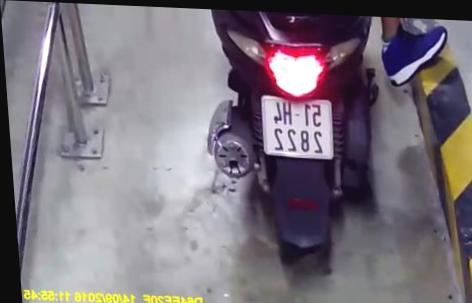License_Plate: (256, 94, 343, 167)
